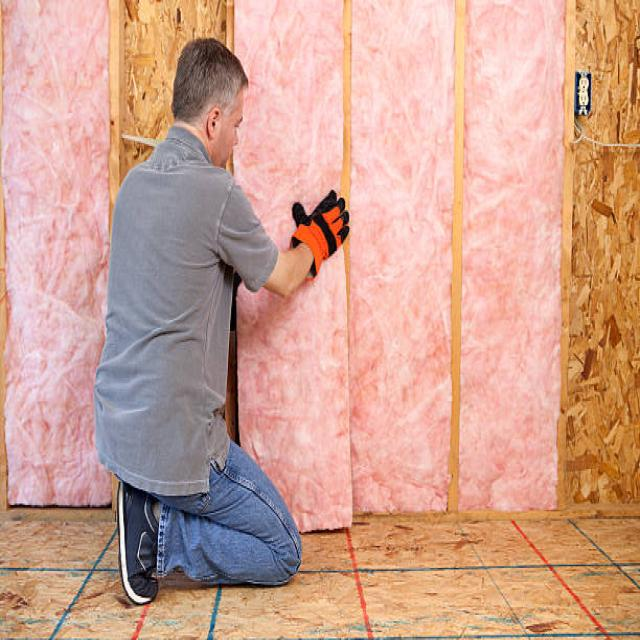gloves: (292, 187, 348, 280)
